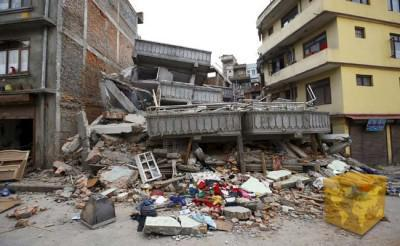destroyed: (69, 15, 340, 195)
